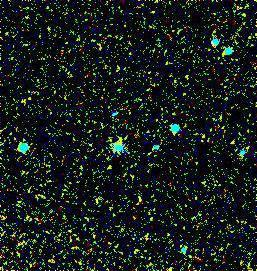star: (95, 154, 125, 184)
